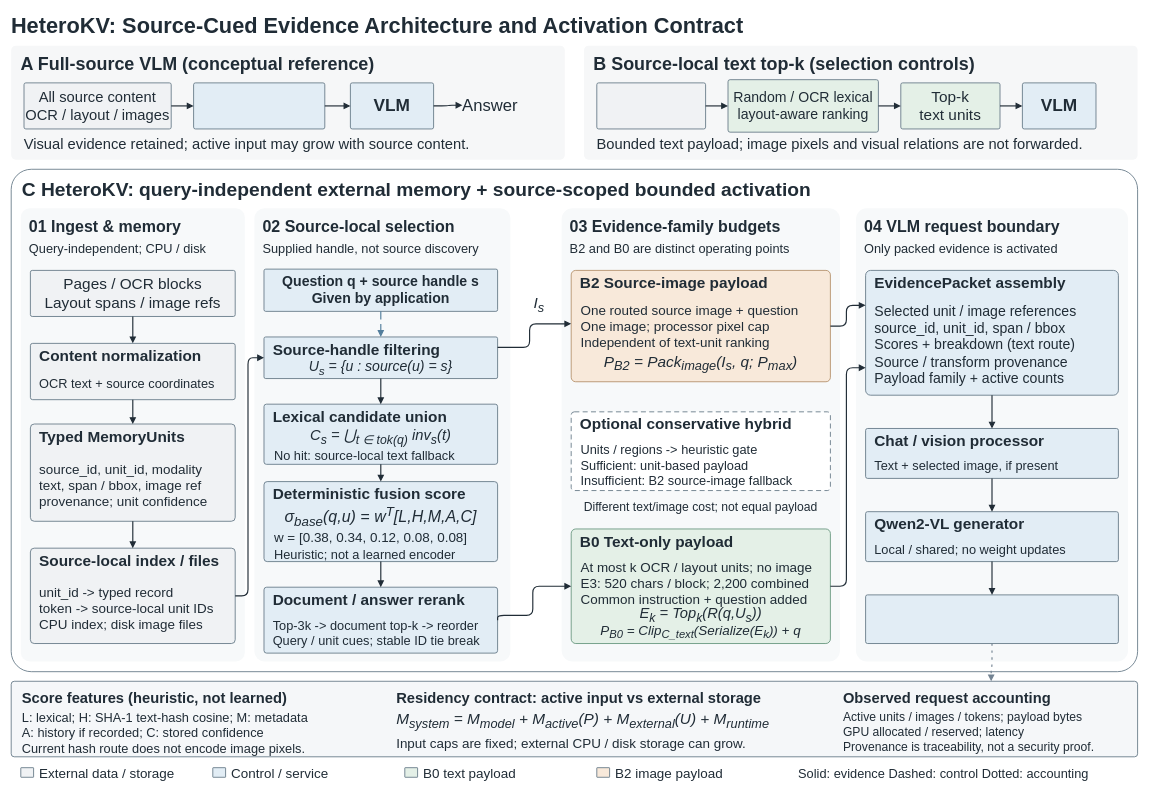
This 1152x792 diagram has some shape labels left out. Each missing label, with the centre of its shape:
"Answer + provenance / accounting trace No unselected record bypass to the VLM" belongs at pixel 992 619.
"Full-source input payload" belongs at pixel 259 105.
"Same supplied source scope" belongs at pixel 651 105.
